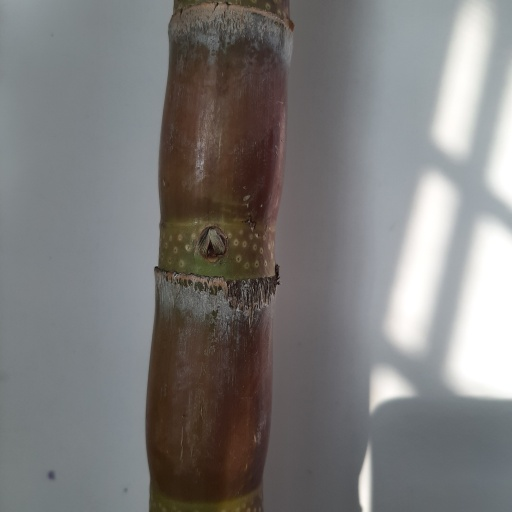Bud: (196, 225, 229, 264)
